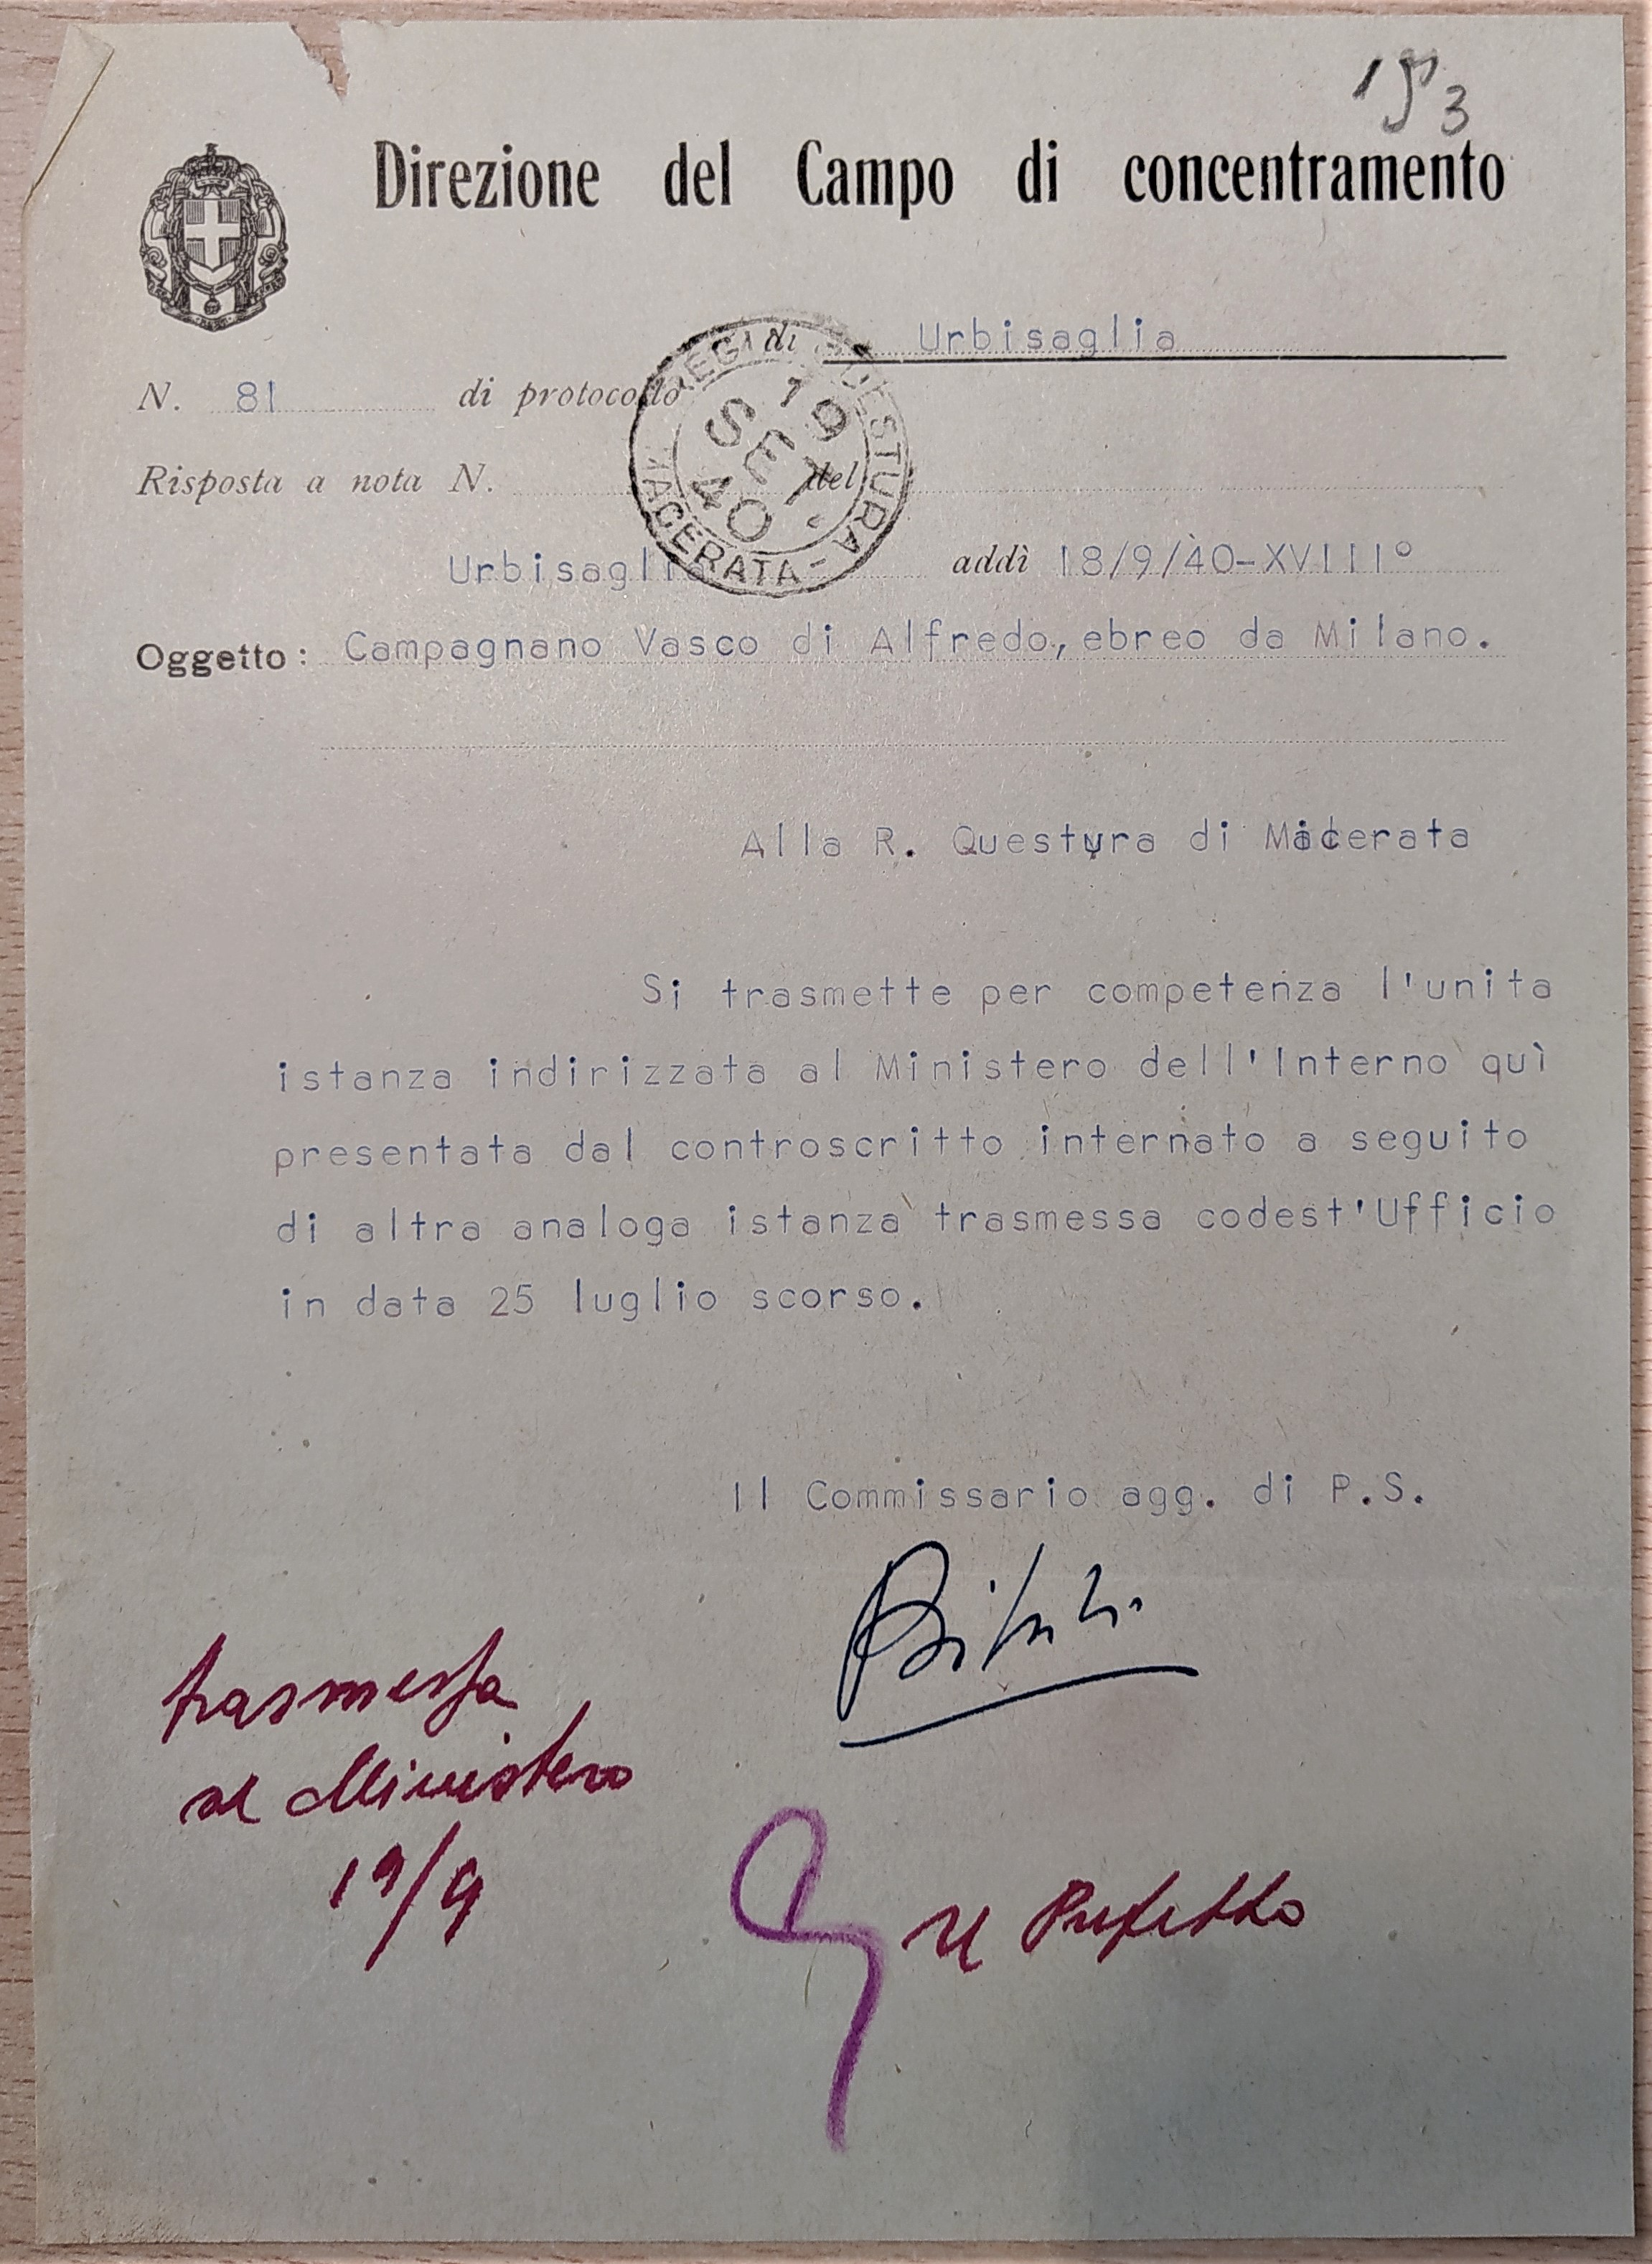stamp: (631, 316, 912, 592)
